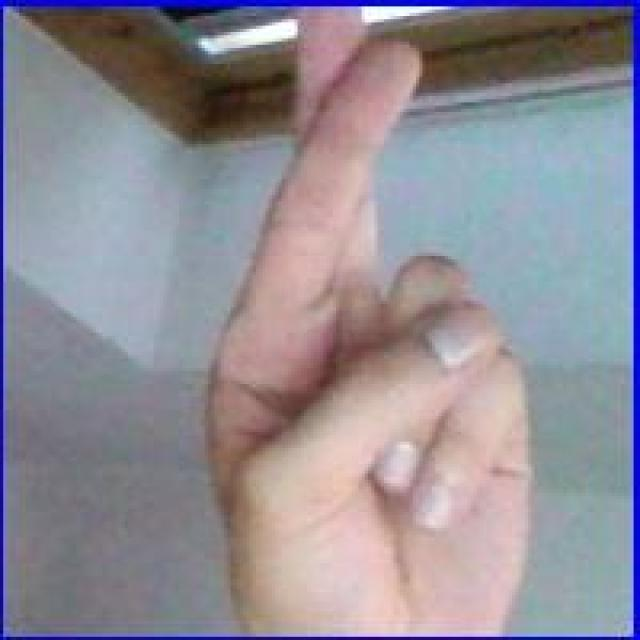R: (202, 6, 538, 640)
